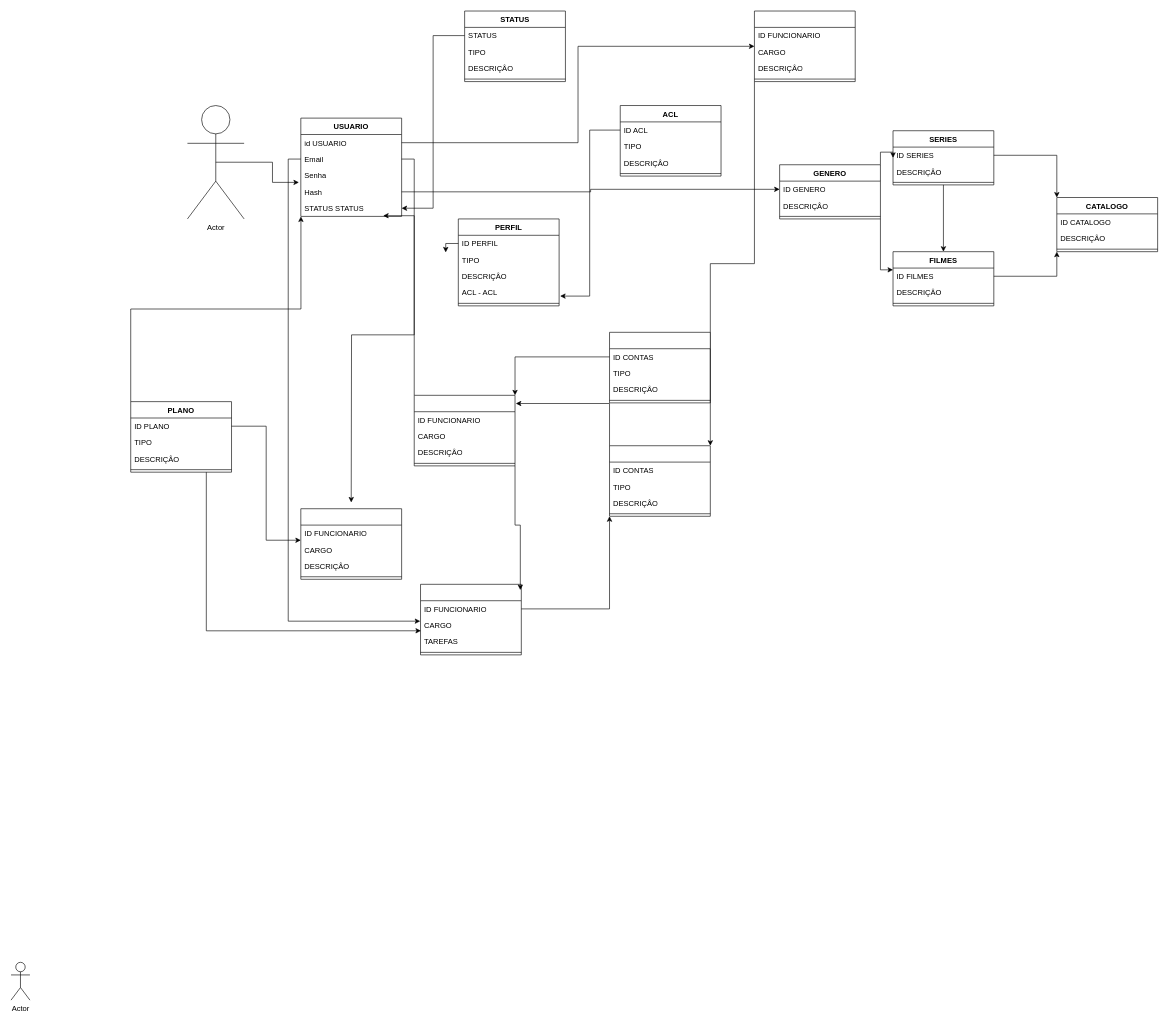
This 1169x1024 diagram has some shape labels left out. The shapes that lost their labels are listed below. From the top down, each one's box as (x1, y1, x2, y2) in pixels, then its label:
(754, 10, 855, 82): RH
(609, 332, 710, 403): CONTAS A RECEBER
(414, 395, 515, 466): FINANCEIRO
(609, 445, 710, 516): CONTAS A PAGAR
(300, 508, 402, 579): SUPORTE
(420, 584, 521, 655): MARKETING
